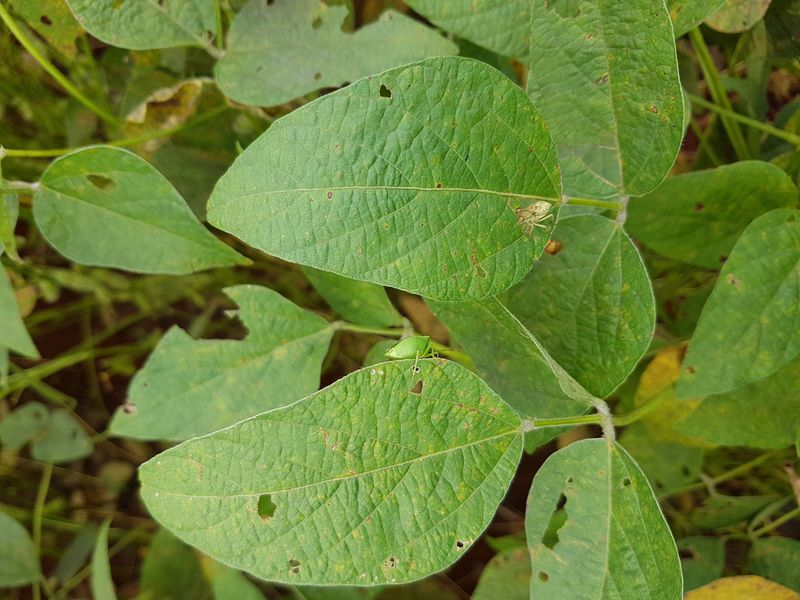Euschistus_heros_ninfa: (500, 191, 565, 242)
Nezara_viridula_adulto: (374, 325, 452, 388)
